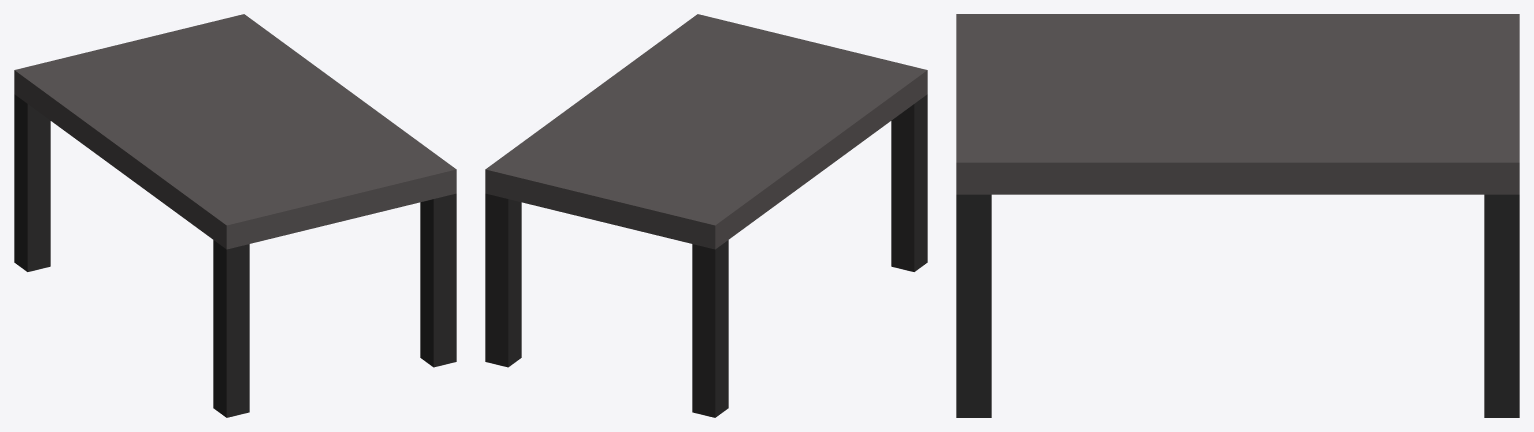
File: table.gltf
3 renders of one model, left to right at view 1: azimuth 30°, elevation 25°; view 2: azimuth 150°, elevation 25°; view 3: azimuth 270°, elevation 25°, orthographic. The views are drawn at different scales.
Visible parts, largest first — view 1: cube (×4); view 2: cube (×4); view 3: cube (×3).
Boxes of the visible parts, bbox=[...] form: cube (×4): bbox=[14, 14, 456, 417]; cube (×4): bbox=[485, 14, 927, 417]; cube (×3): bbox=[956, 14, 1519, 417].
Size of the model in its own units: 0.625 by 0.5 by 1.
Materials: 2 (2 with a texture image).
